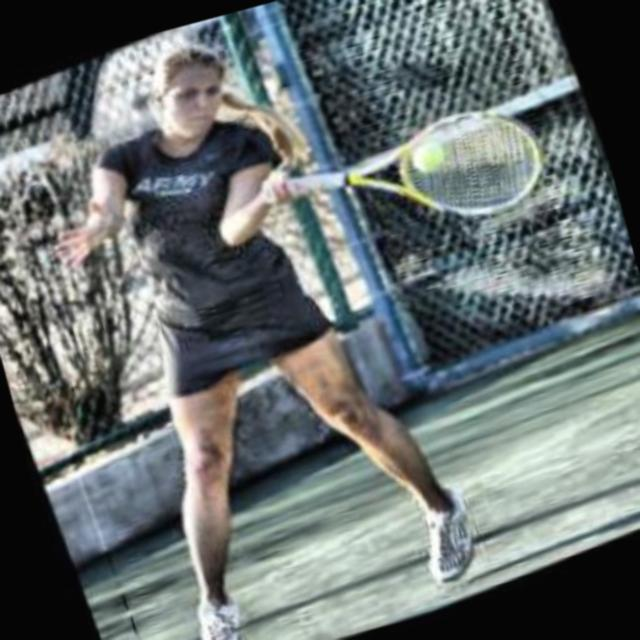tennis-ball: (408, 142, 446, 176)
